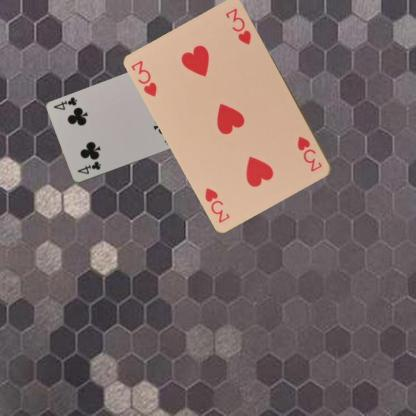3h: (294, 134, 324, 174), (129, 58, 159, 98)
4c: (75, 159, 102, 176)
